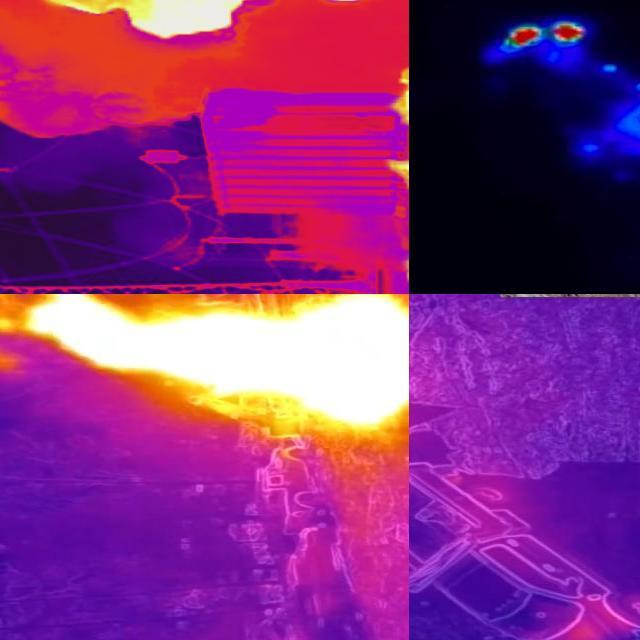fire: (57, 295, 410, 423), (61, 1, 250, 39), (492, 25, 589, 55), (390, 65, 409, 192), (376, 243, 410, 295)
